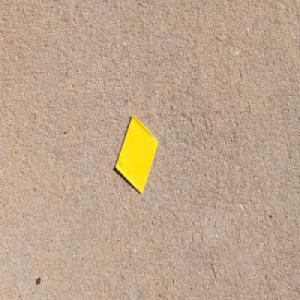PlasticPart: (114, 114, 158, 194)
